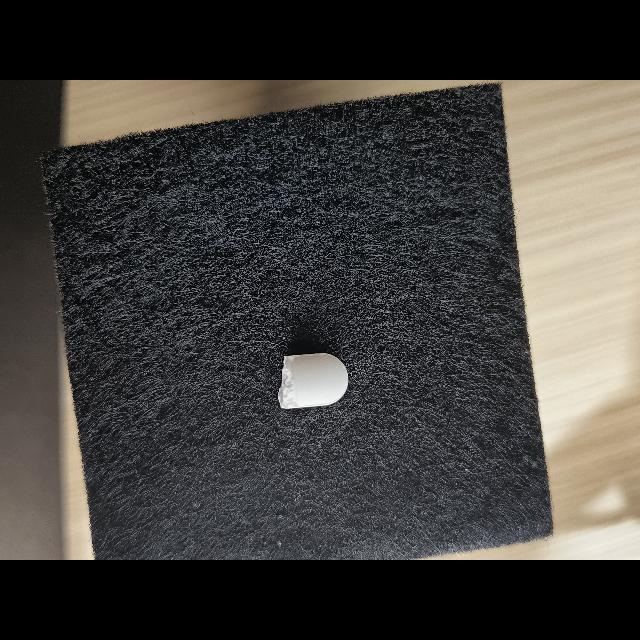Chipped Pill: (278, 353, 349, 409)
